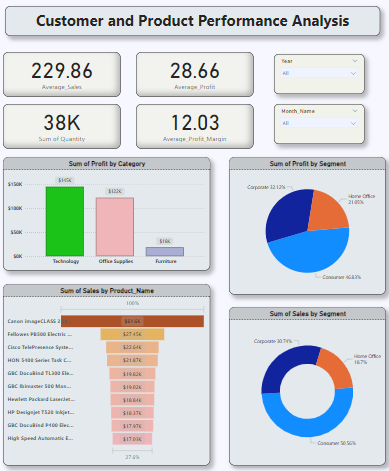

This screenshot's page, from the dashboard's own definition file:
{"tool":"powerbi","page":{"name":"Page 2","canvas":[1000,1200],"ordinal":1},"visuals":[{"type":"donutChart","fields":{"Y":["Sum(Superstore_Cleaned.Sales)"],"Category":["Superstore_Cleaned.Segment"]},"box":[584,770,392,396],"z":1},{"type":"pieChart","fields":{"Y":["Sum(Superstore_Cleaned.Profit)"],"Category":["Superstore_Cleaned.Segment"]},"box":[584,396,392,344],"z":2},{"type":"funnel","fields":{"Category":["Superstore_Cleaned.Product_Name"],"Y":["Sum(Superstore_Cleaned.Sales)"]},"box":[20,712,518,454],"z":3},{"type":"columnChart","fields":{"Y":["Sum(Superstore_Cleaned.Profit)"],"Category":["Superstore_Cleaned.Category"]},"box":[20,396,518,284],"z":4},{"type":"card","fields":{"Values":["Sum(Superstore_Cleaned.Quantity)"]},"box":[20,262,294,112],"z":5},{"type":"card","fields":{"Values":["Superstore_Cleaned.Average_Profit_Margin"]},"box":[352,262,294,112],"z":6},{"type":"card","fields":{"Values":["Superstore_Cleaned.Average_Sales"]},"box":[20,132,294,112],"z":7},{"type":"card","fields":{"Values":["Superstore_Cleaned.Average_Profit"]},"box":[352,132,294,112],"z":8},{"type":"slicer","fields":{"Values":["Superstore_Cleaned.Month_Name"]},"box":[698,262,226,100],"z":9},{"type":"slicer","fields":{"Values":["Superstore_Cleaned.Year"]},"box":[698,138,226,100],"z":10},{"type":"textbox","box":[25,17.5,937.5,75],"z":11}]}

Visuals, with their boxes in screenshot pixels (x1, y1, x2, y2), scaled from the page's 1000x1200 canvas onto the 389x471 screenshot:
donutChart - Sum(Superstore_Cleaned.Sales) x Superstore_Cleaned.Segment: [left=227, top=302, right=380, bottom=458]
pieChart - Sum(Superstore_Cleaned.Profit) x Superstore_Cleaned.Segment: [left=227, top=155, right=380, bottom=290]
funnel - Superstore_Cleaned.Product_Name x Sum(Superstore_Cleaned.Sales): [left=8, top=279, right=209, bottom=458]
columnChart - Sum(Superstore_Cleaned.Profit) x Superstore_Cleaned.Category: [left=8, top=155, right=209, bottom=267]
card - Sum(Superstore_Cleaned.Quantity): [left=8, top=103, right=122, bottom=147]
card - Superstore_Cleaned.Average_Profit_Margin: [left=137, top=103, right=251, bottom=147]
card - Superstore_Cleaned.Average_Sales: [left=8, top=52, right=122, bottom=96]
card - Superstore_Cleaned.Average_Profit: [left=137, top=52, right=251, bottom=96]
slicer - Superstore_Cleaned.Month_Name: [left=272, top=103, right=359, bottom=142]
slicer - Superstore_Cleaned.Year: [left=272, top=54, right=359, bottom=93]
textbox: [left=10, top=7, right=374, bottom=36]
